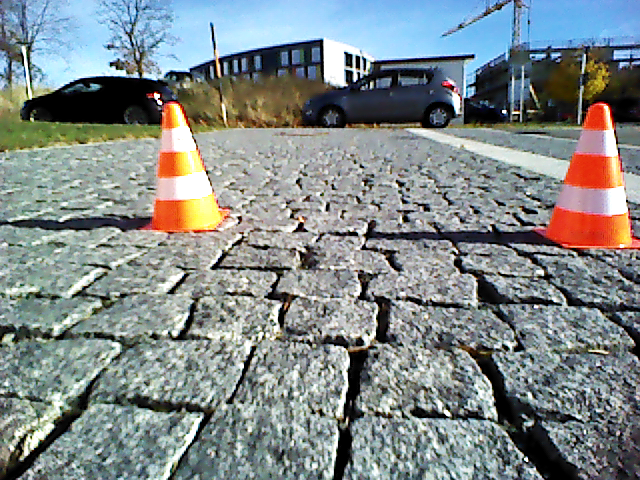orangeconesmall: (549, 101, 638, 250), (154, 102, 220, 231)
